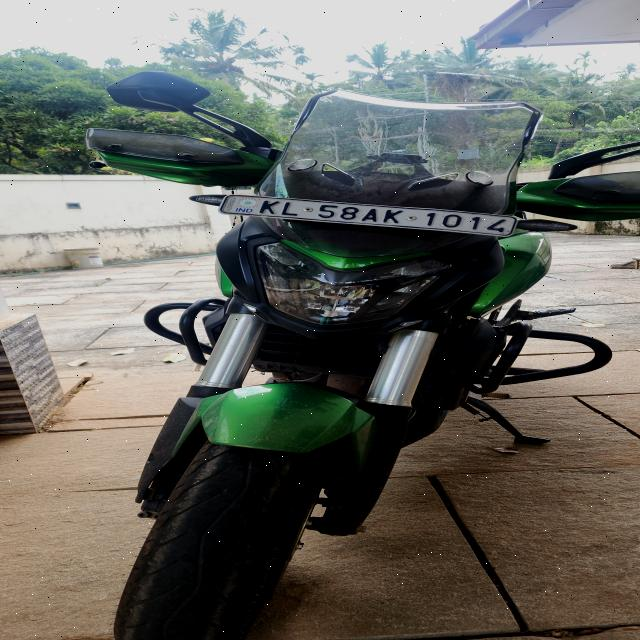headlight: (252, 240, 457, 326)
